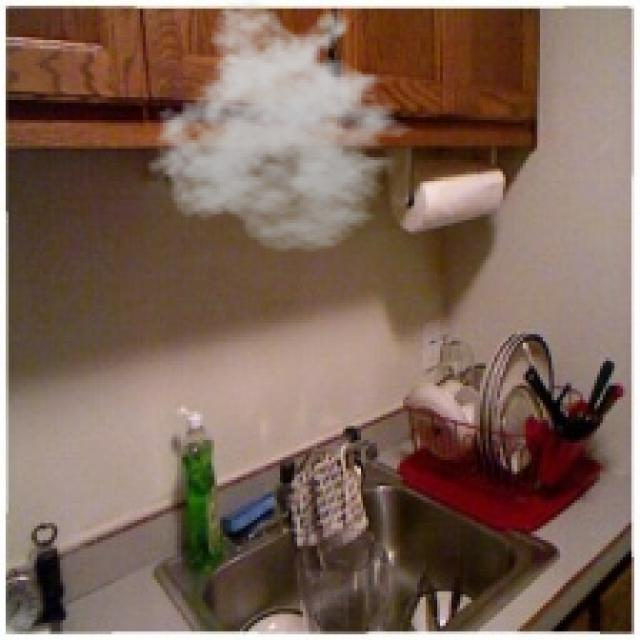smoke: (145, 0, 429, 255)
